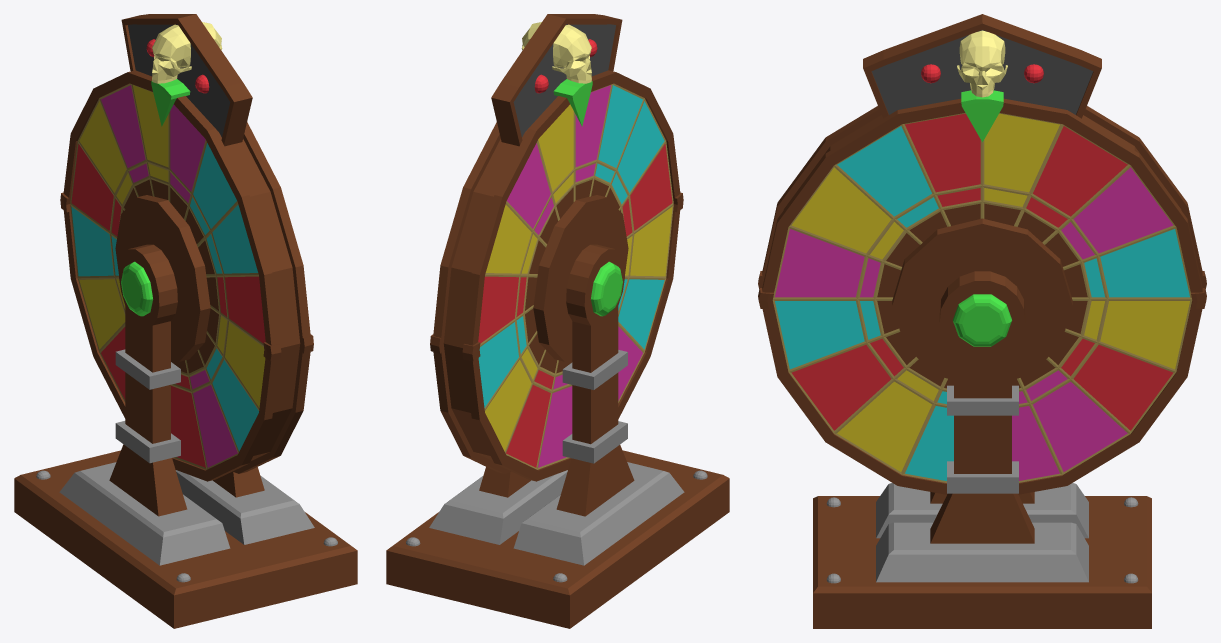
File: Ruletav01.fbx
The picture shows the model from 3 angles, left to right: view 1: azimuth 30°, elevation 25°; view 2: azimuth 150°, elevation 25°; view 3: azimuth 270°, elevation 25°; orthographic projection. The views are drawn at different scales.
Parts seen in each view (by area): view 1: Cylinder.005; view 2: Cylinder.005; view 3: Cylinder.005.
Boxes of the visible parts, box(x1,y1,x2,y2) form: Cylinder.005: box(14, 14, 357, 628); Cylinder.005: box(386, 14, 729, 628); Cylinder.005: box(758, 14, 1206, 628).
Size of the model in its own units: 1 by 2.76 by 2.
